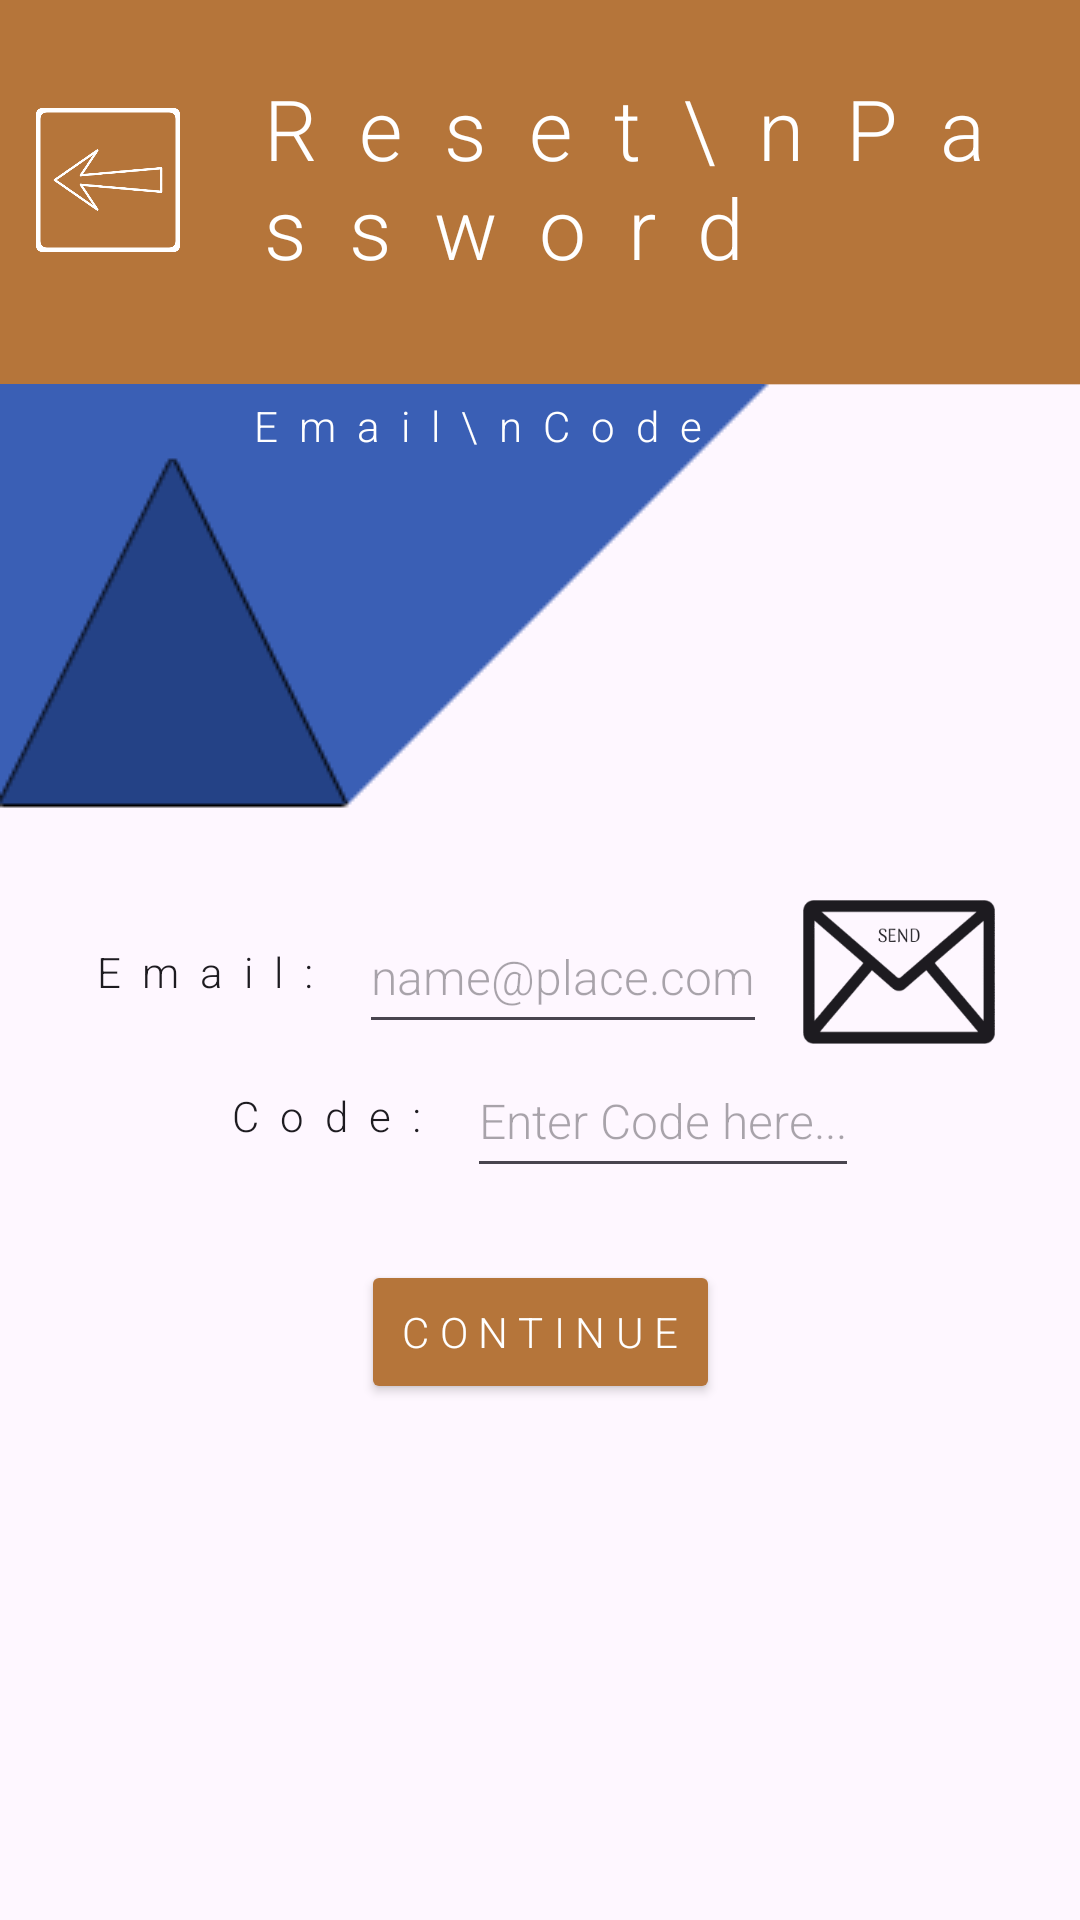

Screen size 1080x1920. Icon name, then its box in pixels as (x1,y1,x2,y2):
email: (803,900,995,1044)
